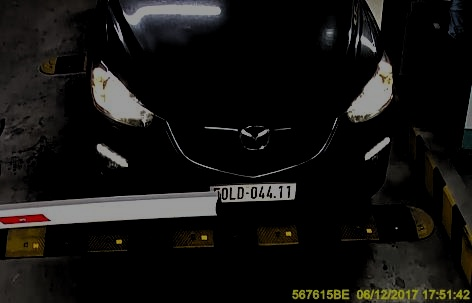plate: (210, 184, 298, 202)
